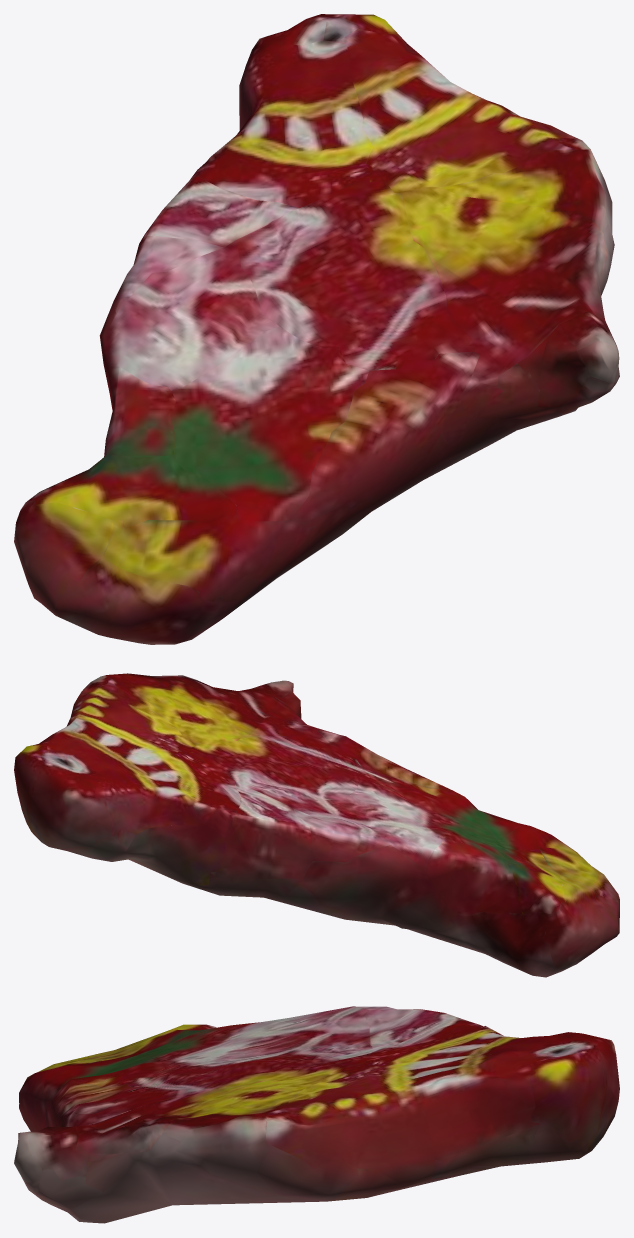
File: hall.glb
3 views of the same model, one above another, from view 1: azimuth 30°, elevation 25°; view 2: azimuth 150°, elevation 25°; view 3: azimuth 270°, elevation 25° (orthographic). The views are drawn at different scales.
Size of the model in its own units: 0.5064 by 0.2564 by 0.4491.
1 material, 1 textured.
